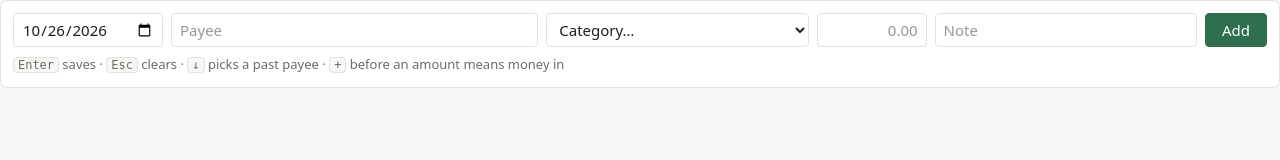
Scenario: EntryRow transfers › mentions transfers when the category is missing
Type "5" into the field named "Amount" at (872, 30), box [817,13,927,47]
Then press Enter
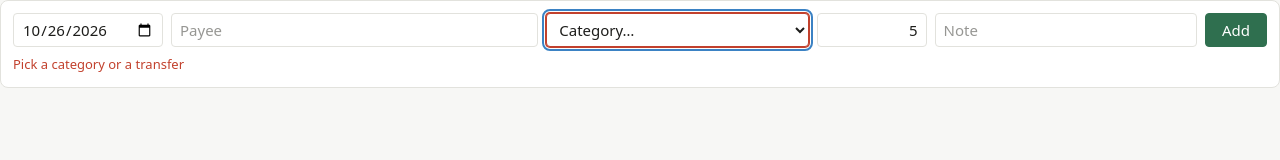
Now the message reads "Pick a category or a transfer", box [13,55,184,73]
